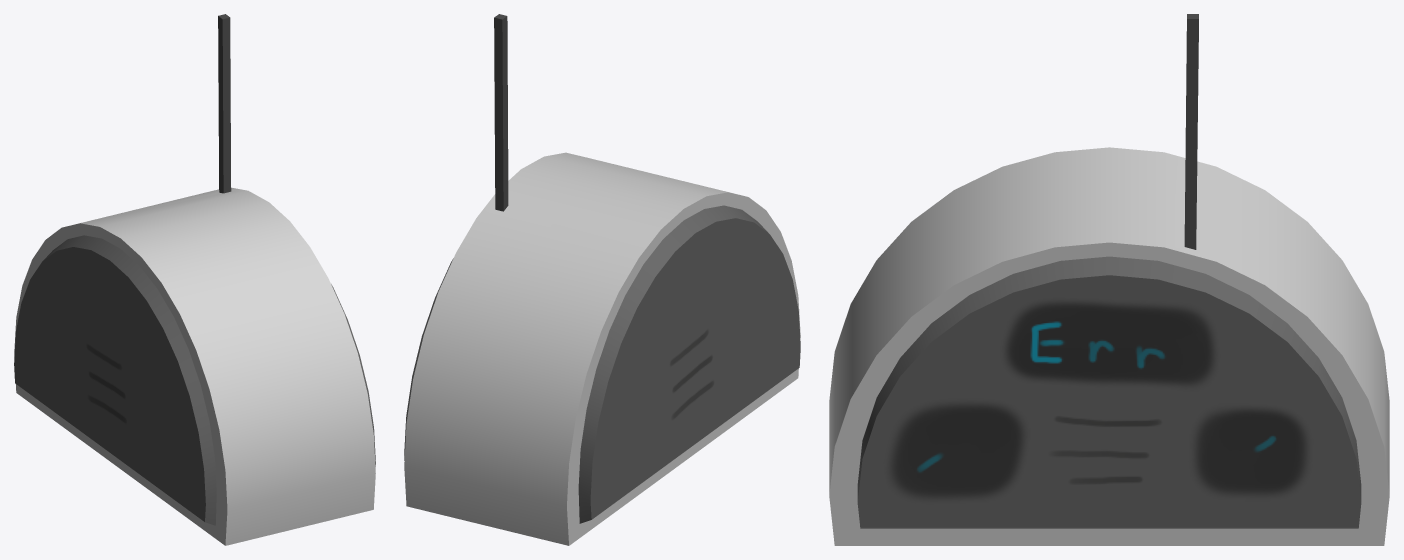
The model's file is Radio.fbx.
3 views of the same model, side by side, from view 1: azimuth 30°, elevation 25°; view 2: azimuth 150°, elevation 25°; view 3: azimuth 270°, elevation 25° (orthographic). The views are drawn at different scales.
Parts seen in each view (by area): view 1: Cylinder; view 2: Cylinder; view 3: Cylinder.
Part boxes in pixels (left/top/right/bottom): Cylinder: left=14, top=14, right=375, bottom=545; Cylinder: left=404, top=14, right=800, bottom=545; Cylinder: left=829, top=14, right=1389, bottom=545.
Size of the model in its own units: 92.1 by 205 by 200.
1 material, 1 textured.
